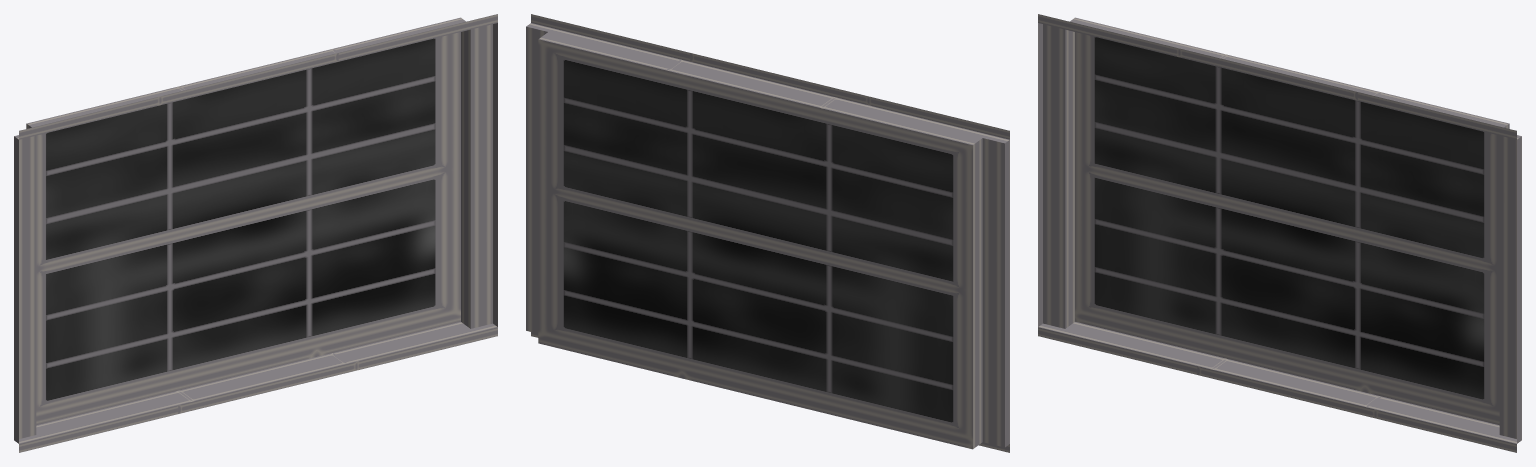
File: SM_ENV_K3_WINDOW_01.fbx
3 views of the same model, side by side, from view 1: azimuth 30°, elevation 25°; view 2: azimuth 150°, elevation 25°; view 3: azimuth 330°, elevation 25° (orthographic).
Parts seen in each view (by area): view 1: SM_ENV_K3_WINDOW_01; view 2: SM_ENV_K3_WINDOW_01; view 3: SM_ENV_K3_WINDOW_01.
Boxes of the visible parts, left/top/right/bottom form: SM_ENV_K3_WINDOW_01: left=14, top=14, right=497, bottom=452; SM_ENV_K3_WINDOW_01: left=526, top=14, right=1009, bottom=452; SM_ENV_K3_WINDOW_01: left=1038, top=14, right=1521, bottom=452.
Bounding box in the file's own units: 2.8 × 1.8 × 0.15.
